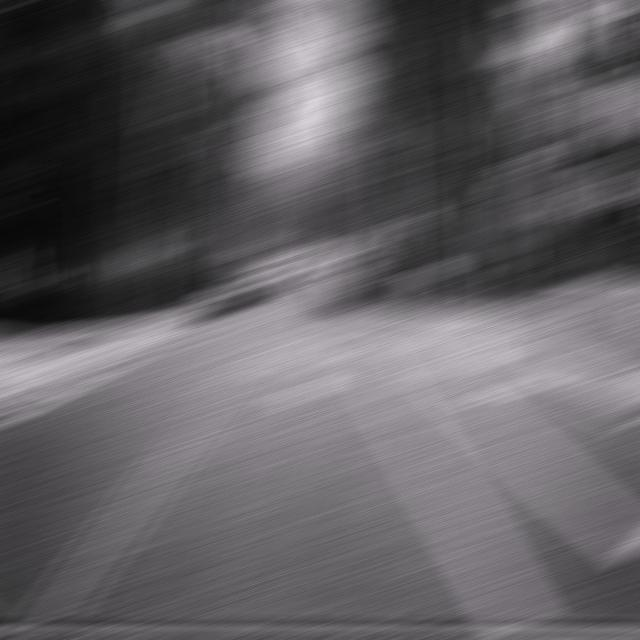stop: (541, 188, 584, 230)
